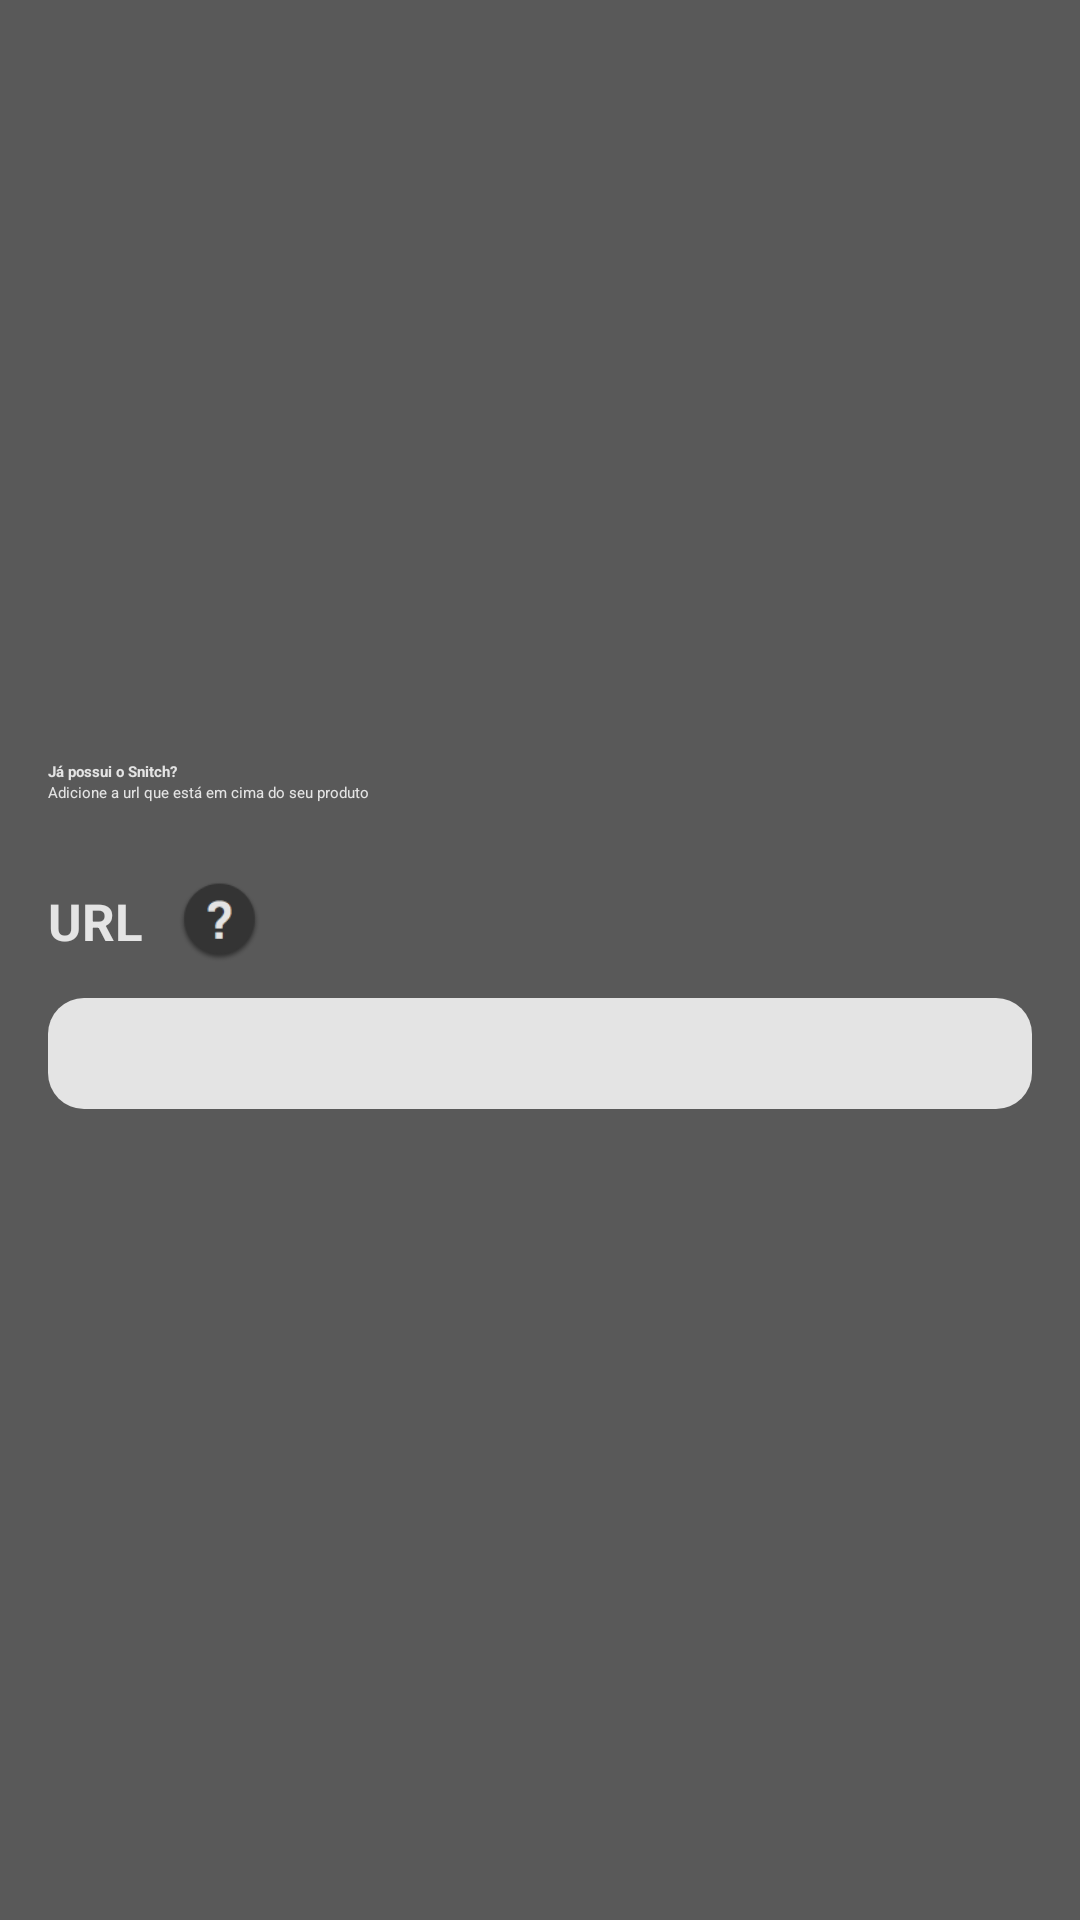

Named icons in this screenshot (1080px×1920px) and their bounding boxes, (x1, y1, x2, y2):
info: (184, 884, 255, 956)
